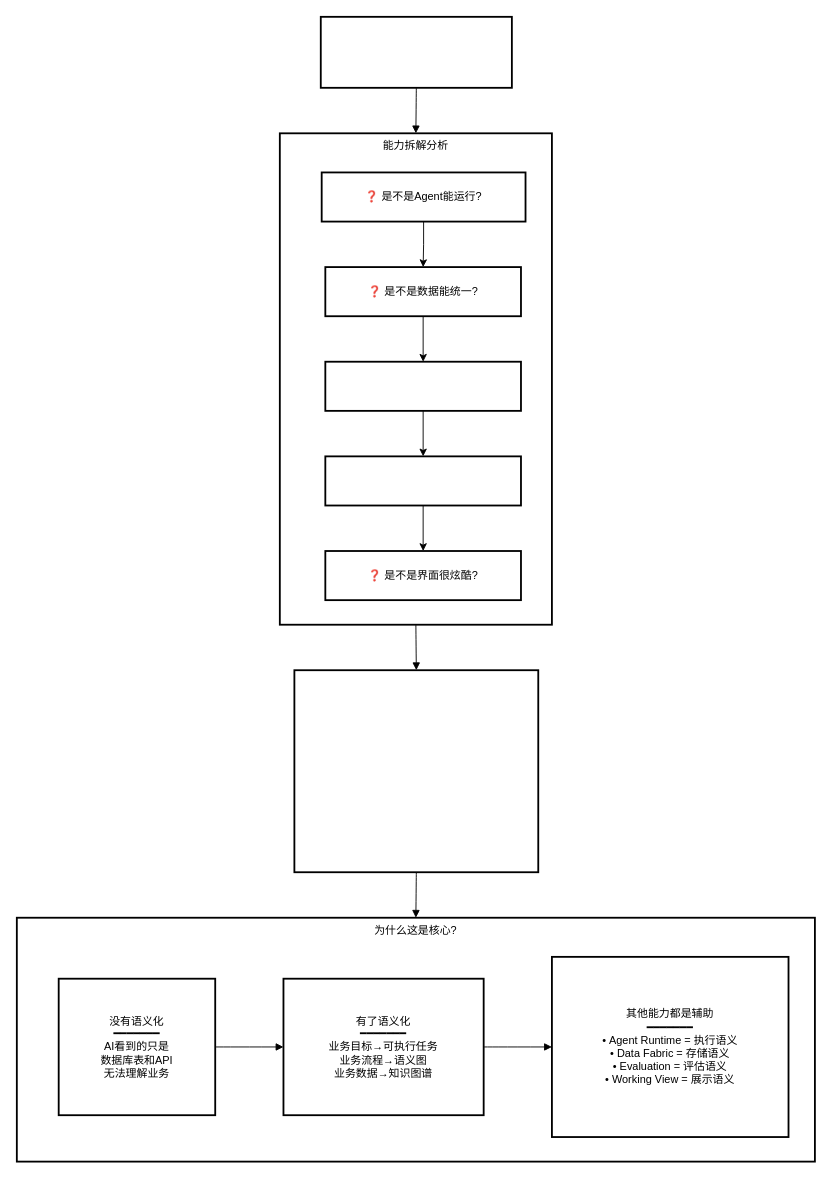
The diagram is 831 pixels wide and 1178 high, and some of its shapes have lost their labels. Here are the shapes that lost their labels. From the top down, the centre of each, then its label:
point 415,51: AI Native OS 最核心的能力是什么?
point 422,385: ❓ 是不是能自动评估?
point 422,480: ❓ 是不是能智能编排?
point 416,771: ✅ 真正的核心 ━━━━━━━━━━━━━ 让业务任务变成 AI可理解和执行的 语义化结构 核心 = 语义化能力
